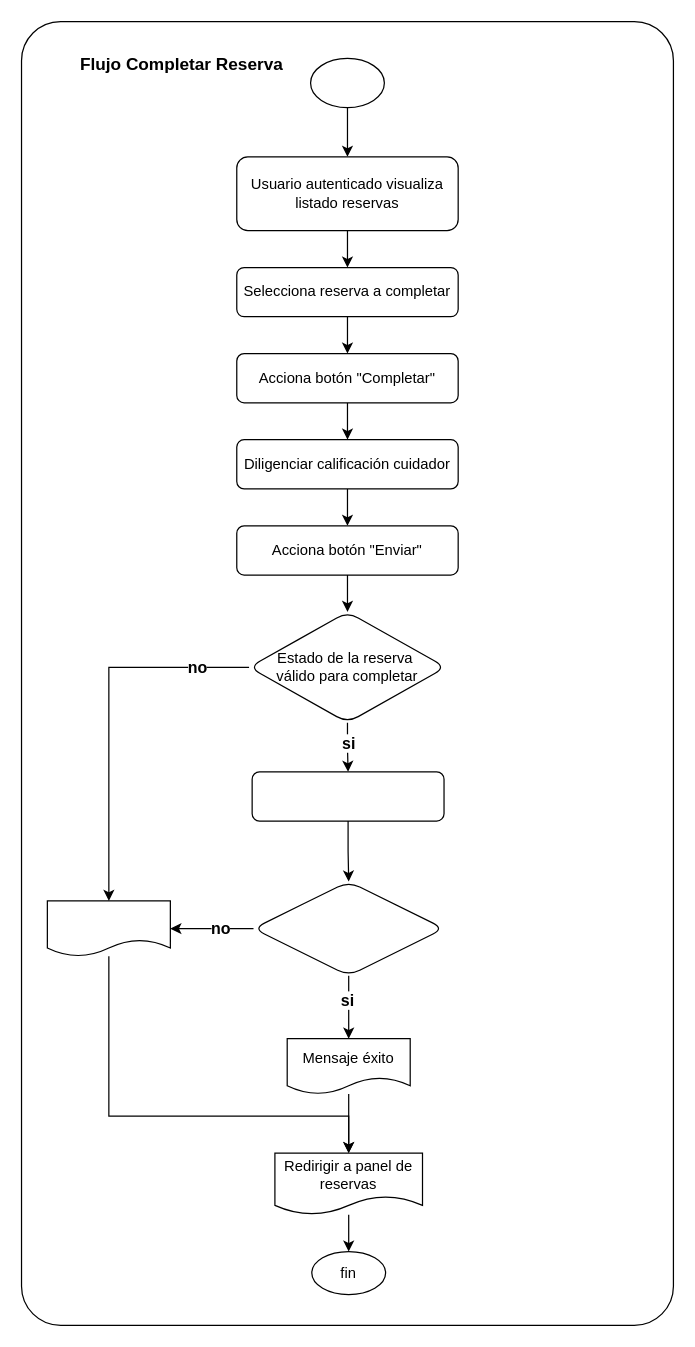
The diagram is 695 pixels wide and 1347 high, and some of its shapes have lost their labels. The centre of each missing label's shape, as x and y in pixels:
Completar reserva: point 347,796
inicio: point 346,82
Mensaje fallo: point 108,928
Reserva completar con éxito: point 348,928
